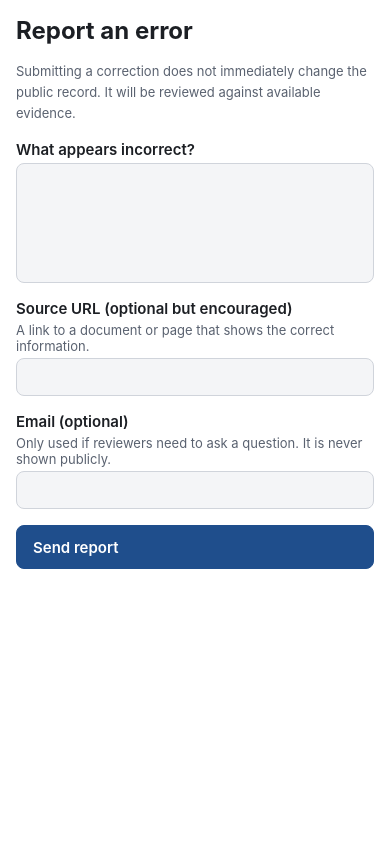
Test: ReportErrorView › shows validation errors and does not submit an empty report
Click the button "Send report" at [76, 547], box left=16, top=525, right=374, bottom=569
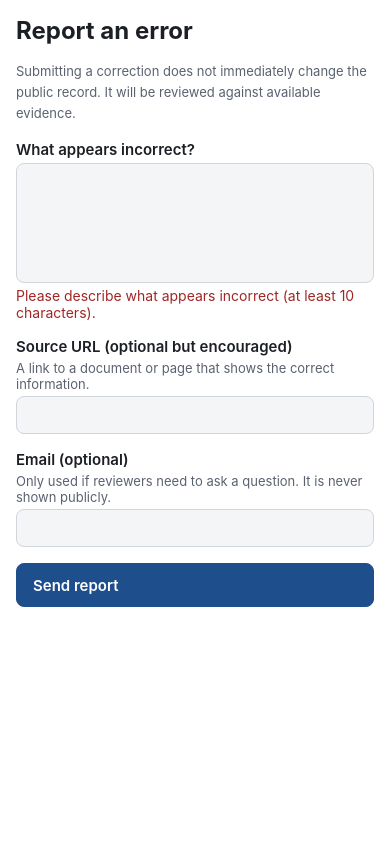
expect the text "Please describe what appears incorrect (at least 10 characters)." is shown: met, box left=16, top=287, right=374, bottom=321
